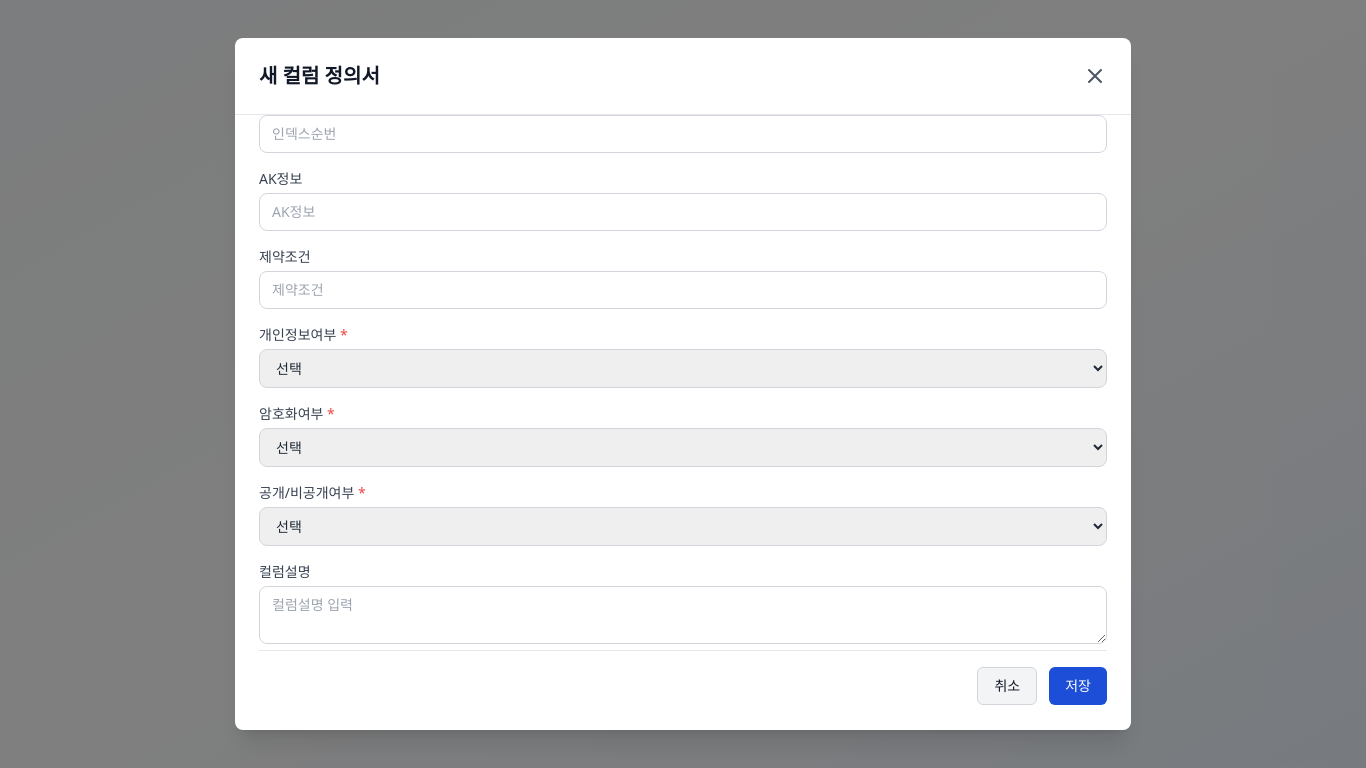
Test case: ColumnDefEditor › Form Validation › should show error message when form is submitted with empty required fields
(page scrolled)
Click the button "저장": [1078, 686] box [1049,667,1107,705]
(page scrolled)
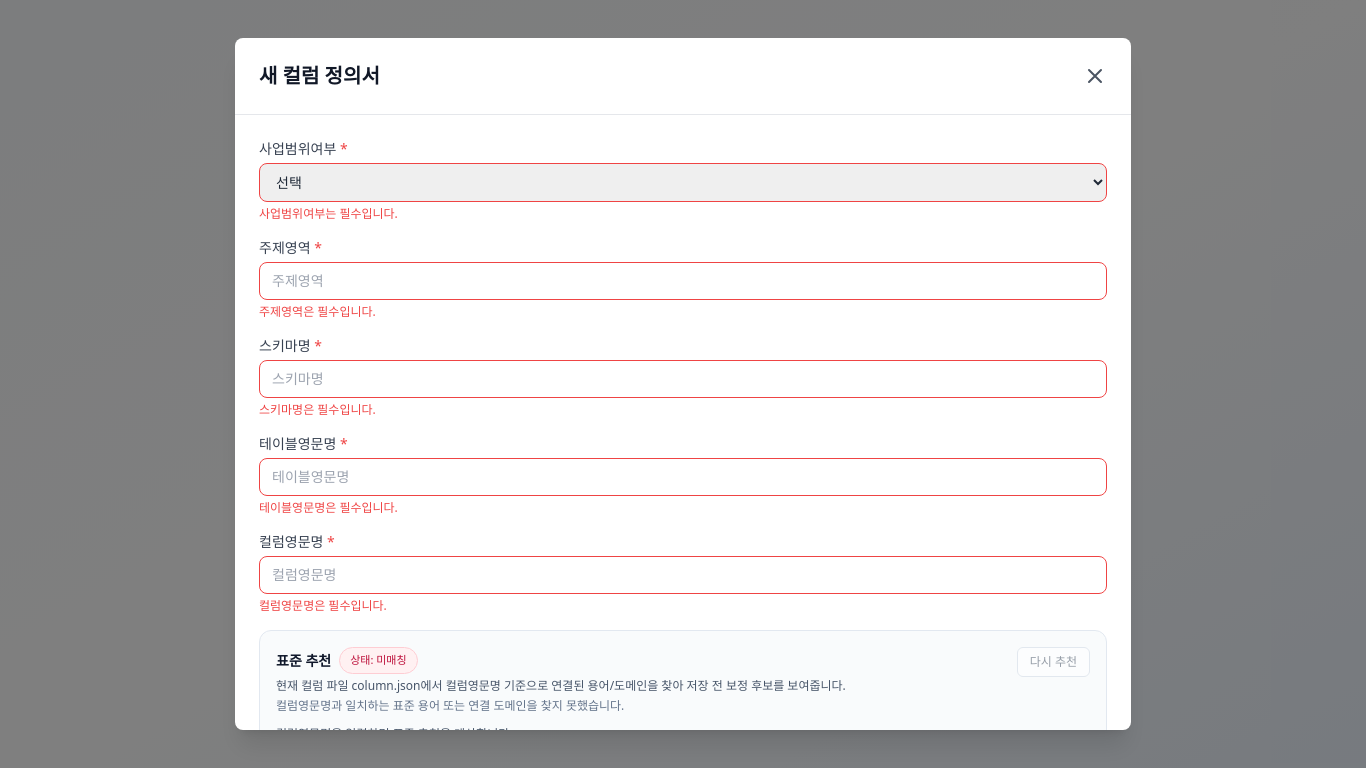
Result: the text "사업범위여부는 필수입니다." is shown at [259,205,398,222]
